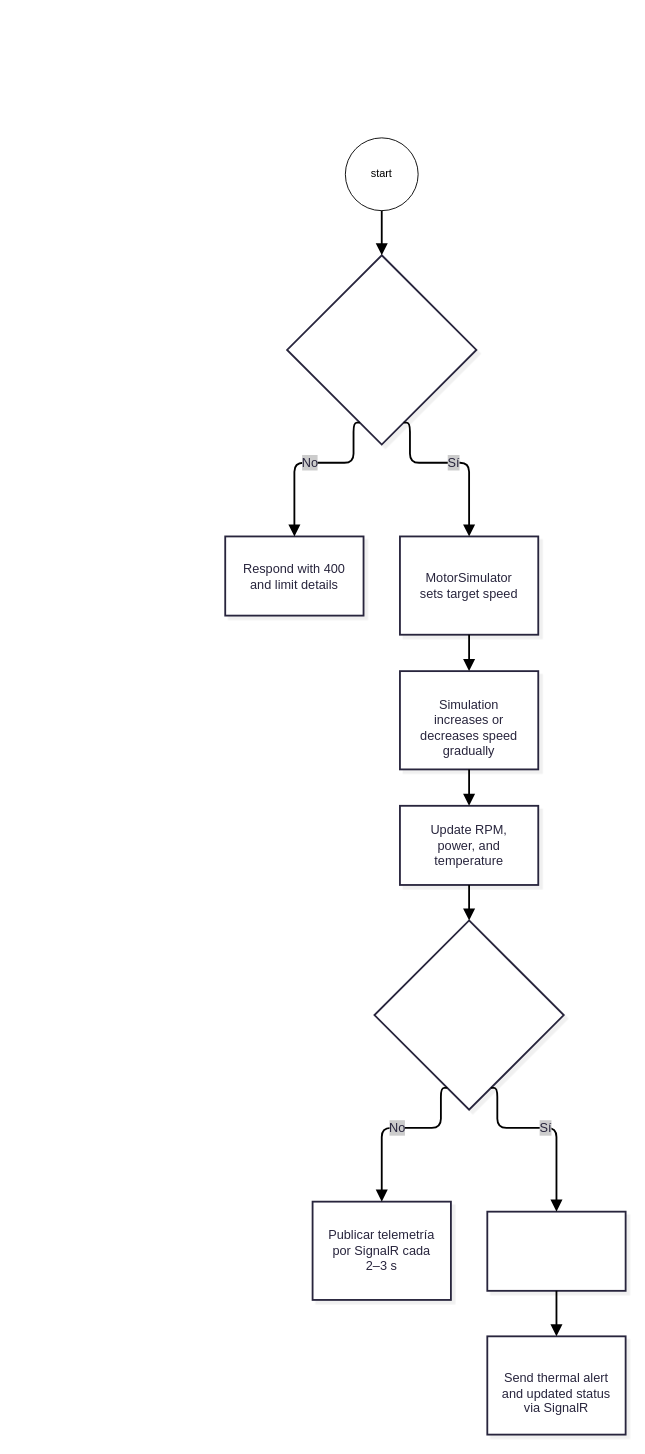
Some shapes in this 645 by 1454 pixel diagram are drawn without their labels. Each missing label, with the centre of its shape:
Reduce speed immediately: the point at 558,1252
Speed within the limit for the current mode?: the point at 383,351
Temperature above the threshold?: the point at 470,1016
